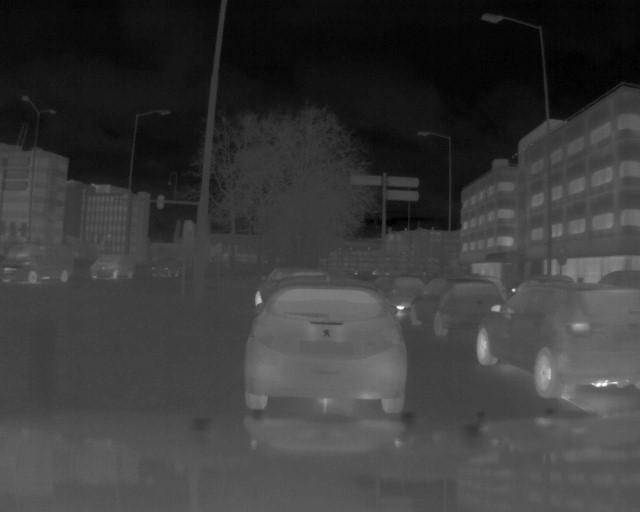car: (241, 275, 412, 415), (475, 279, 639, 398), (410, 269, 472, 338), (1, 241, 72, 284), (90, 253, 136, 279), (151, 257, 183, 277)
